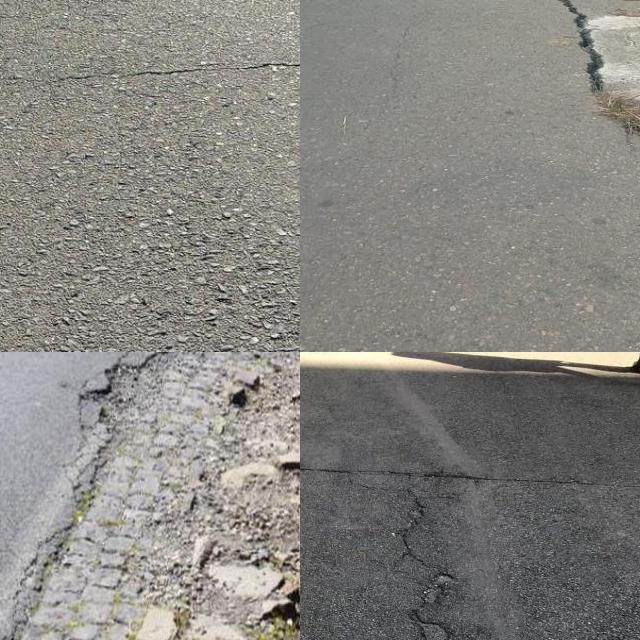Melintang: (0, 44, 300, 102), (300, 455, 640, 499)
Memanjang: (535, 0, 636, 123), (392, 476, 462, 640)
Pinggir: (0, 352, 272, 640)
